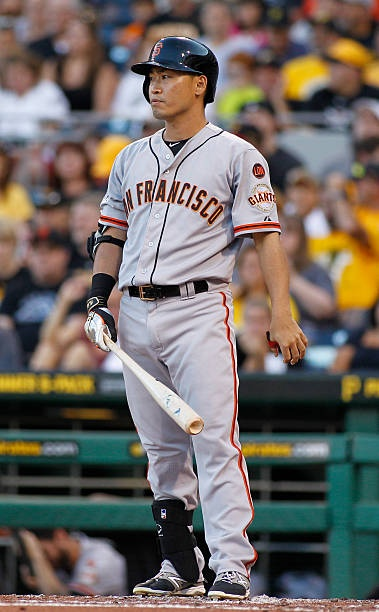bita: (102, 334, 204, 432)
